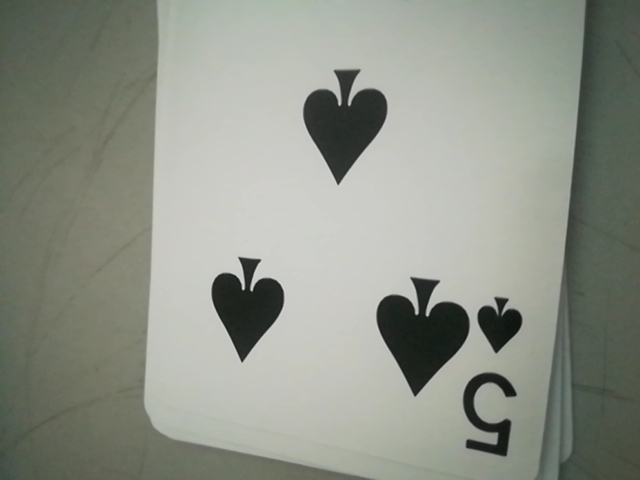ht 5: (458, 299, 528, 469)
